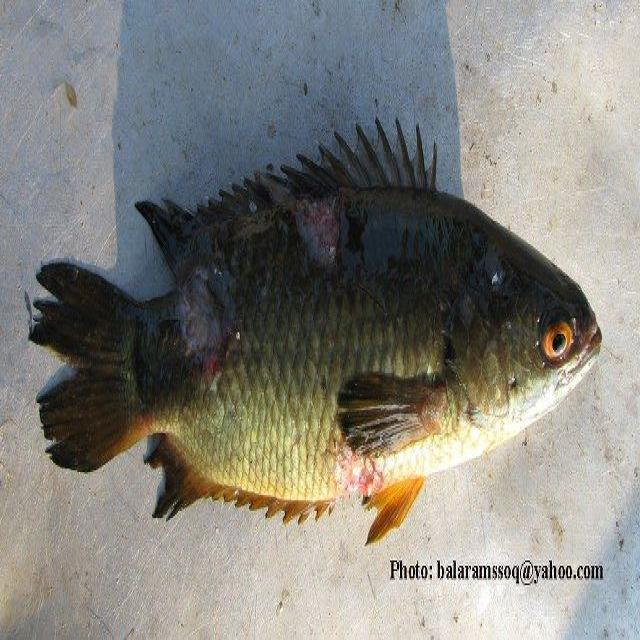Climbing-Perch: (19, 100, 606, 534)
